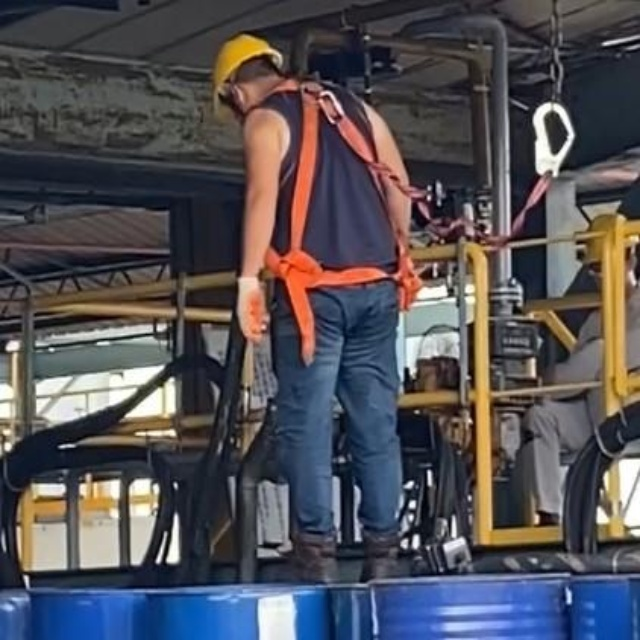Arnes_seguridad: (260, 84, 413, 368)
